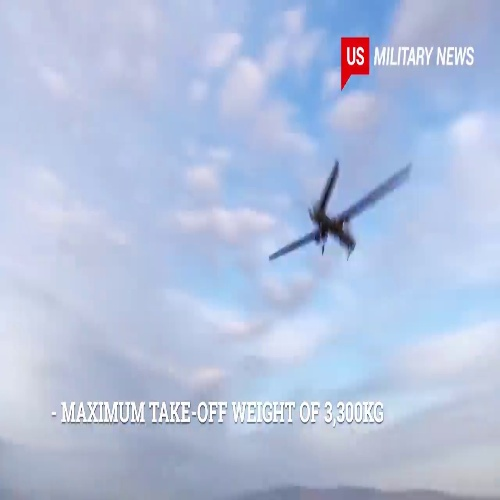uav654: (262, 158, 413, 264)
